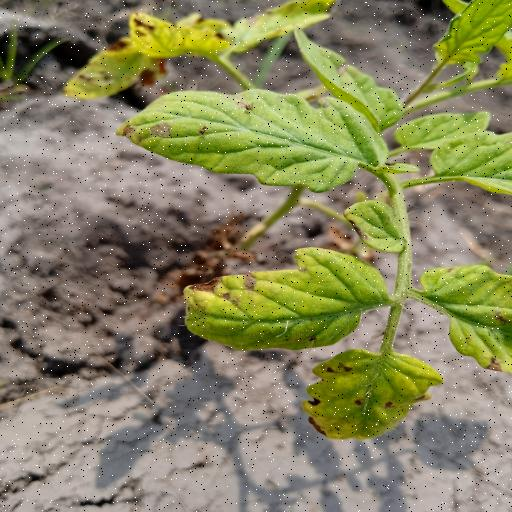Tomato_Brown_Spots: (112, 89, 379, 192), (181, 246, 399, 354), (299, 345, 449, 444), (414, 259, 512, 376)
